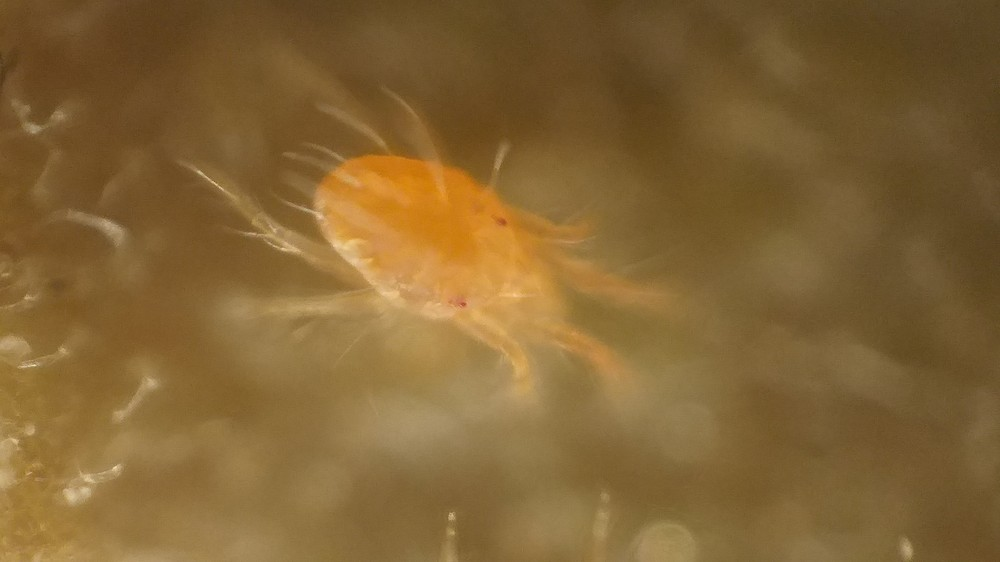Aracnido Rojo: (235, 92, 691, 450)
